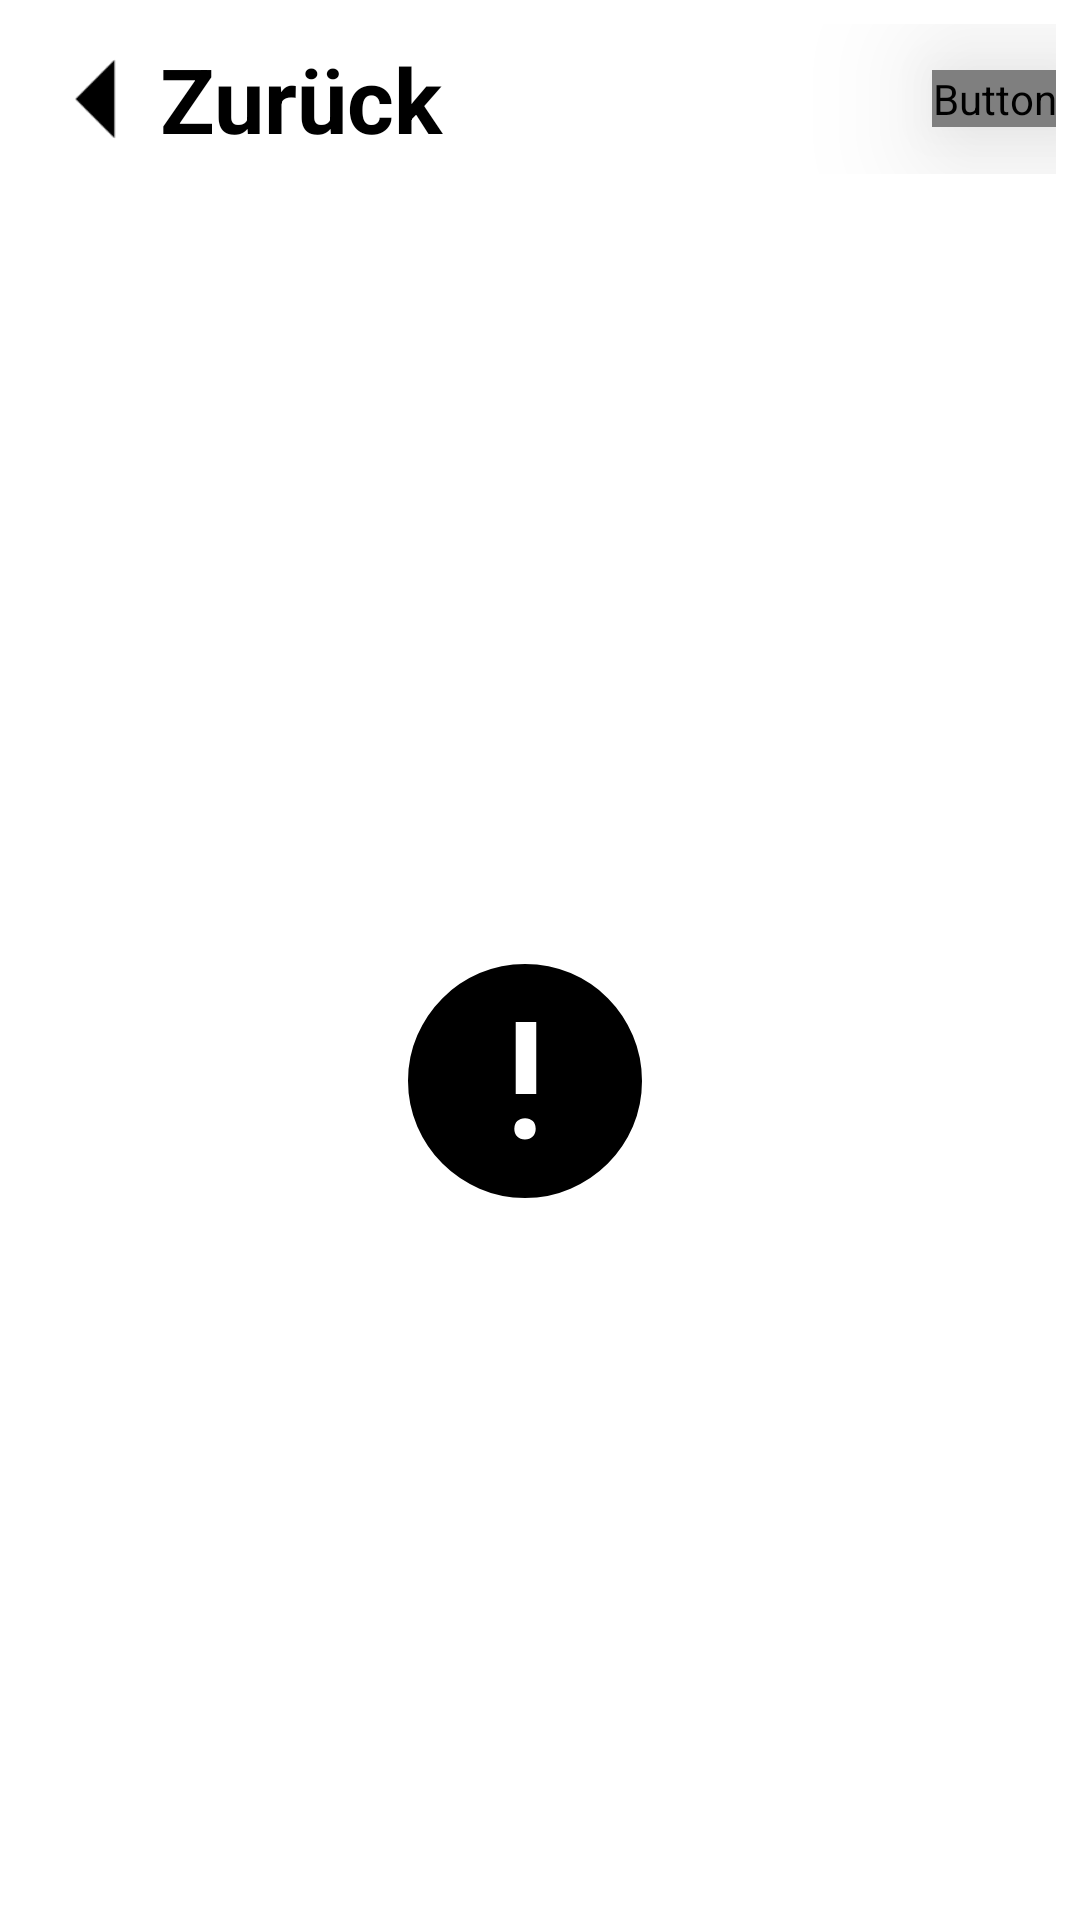

Locate icon controls on the screen. Image size 1080x1920, boxes as bbox=[x1, y1, x2, y2].
error: bbox=[408, 964, 642, 1198]
